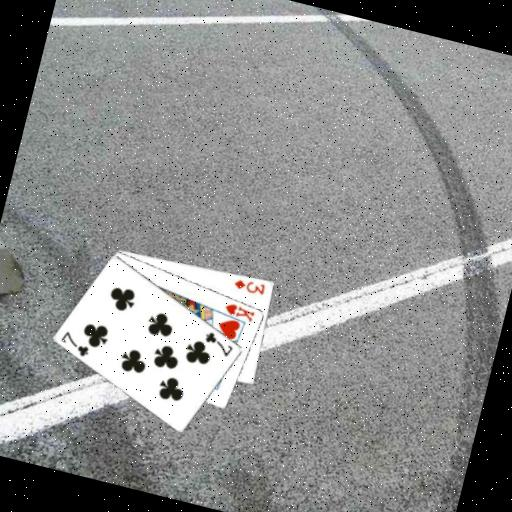3D: (230, 273, 268, 297)
7C: (55, 327, 95, 360), (199, 328, 238, 360)
KH: (220, 299, 257, 325)
